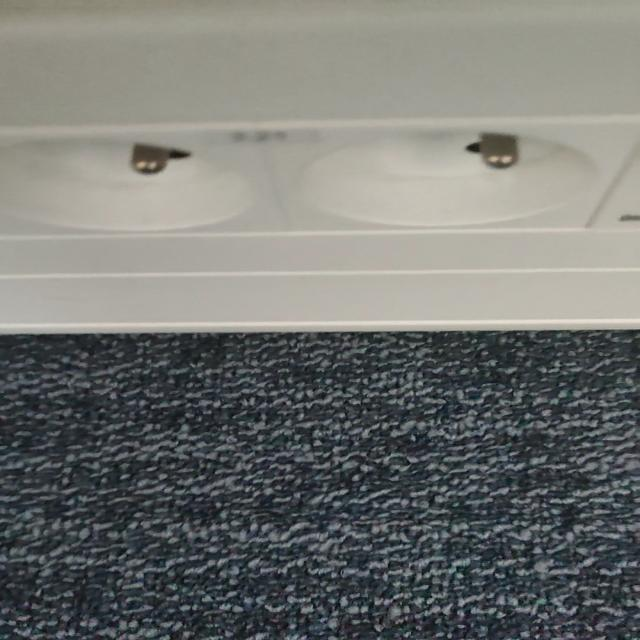house plug: (283, 115, 640, 232), (0, 124, 277, 234)
